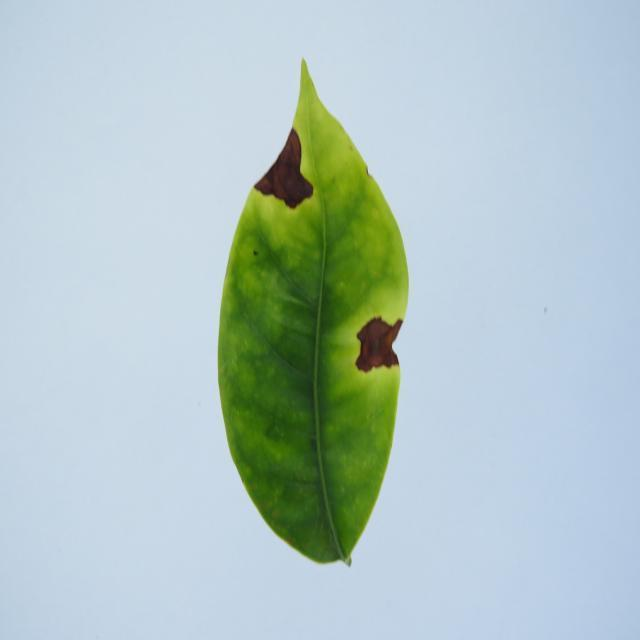DeficienciaNutricional-Nitrogeno: (220, 59, 408, 564)
